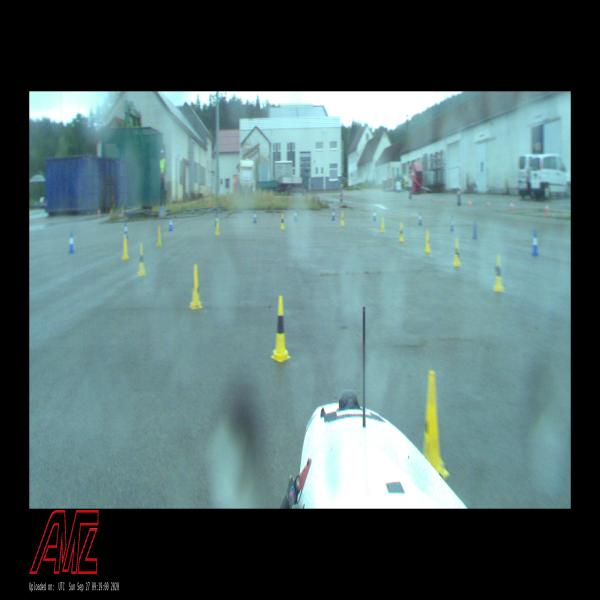blue_cone: (531, 231, 539, 256), (68, 232, 74, 252), (472, 220, 477, 239), (124, 221, 129, 239), (169, 216, 173, 231), (450, 216, 454, 231), (418, 210, 422, 225), (253, 209, 257, 223), (294, 208, 298, 221), (373, 209, 376, 221), (332, 210, 335, 220)
orange_cone: (545, 202, 549, 213), (97, 208, 101, 218), (121, 205, 124, 216), (510, 202, 514, 210), (468, 198, 471, 208), (487, 200, 490, 209), (110, 206, 112, 216)
yellow_cone: (421, 371, 449, 477), (270, 296, 292, 361), (188, 265, 202, 309), (493, 255, 505, 292), (138, 245, 146, 275), (453, 238, 461, 266), (121, 235, 129, 260), (424, 230, 431, 253), (398, 223, 405, 241), (156, 226, 162, 246), (215, 219, 220, 235), (280, 214, 285, 229), (380, 217, 385, 232), (340, 211, 345, 226)
